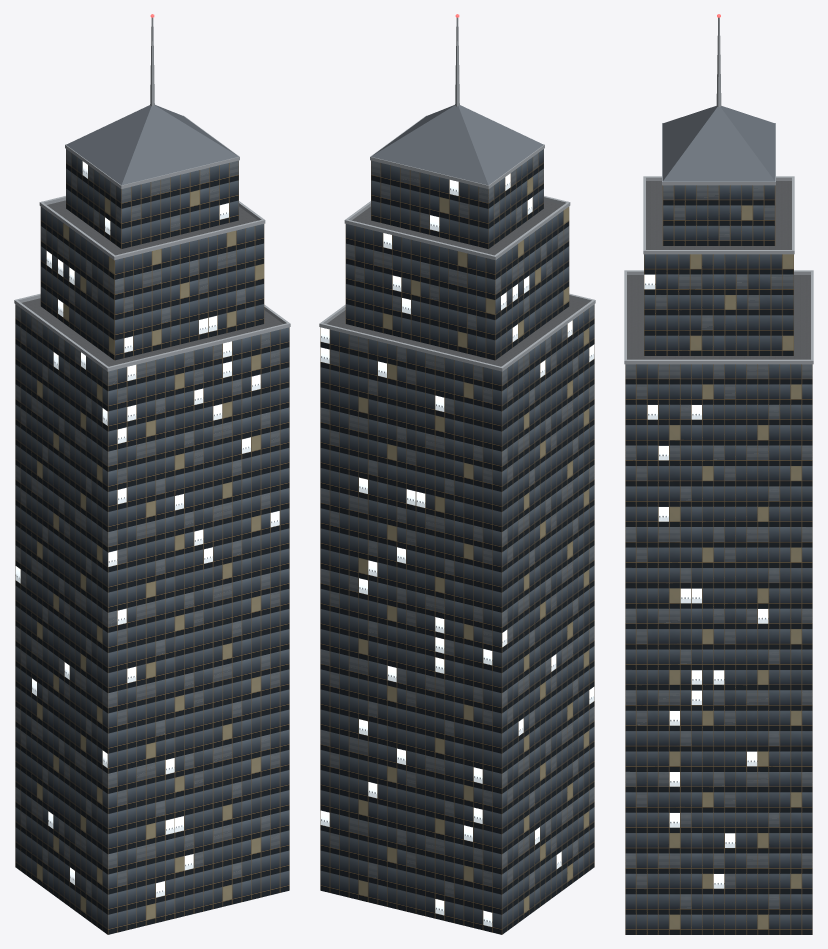
File: Tower4.fbx
3 renders of one model, left to right at view 1: azimuth 30°, elevation 25°; view 2: azimuth 150°, elevation 25°; view 3: azimuth 270°, elevation 25°, orthographic.
Parts seen in each view (by area): view 1: Tower4_Mesh; view 2: Tower4_Mesh; view 3: Tower4_Mesh.
Part boxes in pixels (box(x1,y1,x2,y2)): Tower4_Mesh: box(14, 14, 290, 934); Tower4_Mesh: box(319, 14, 595, 934); Tower4_Mesh: box(624, 14, 813, 934).
Size of the model in its own units: 34.24 by 155 by 30.24.
